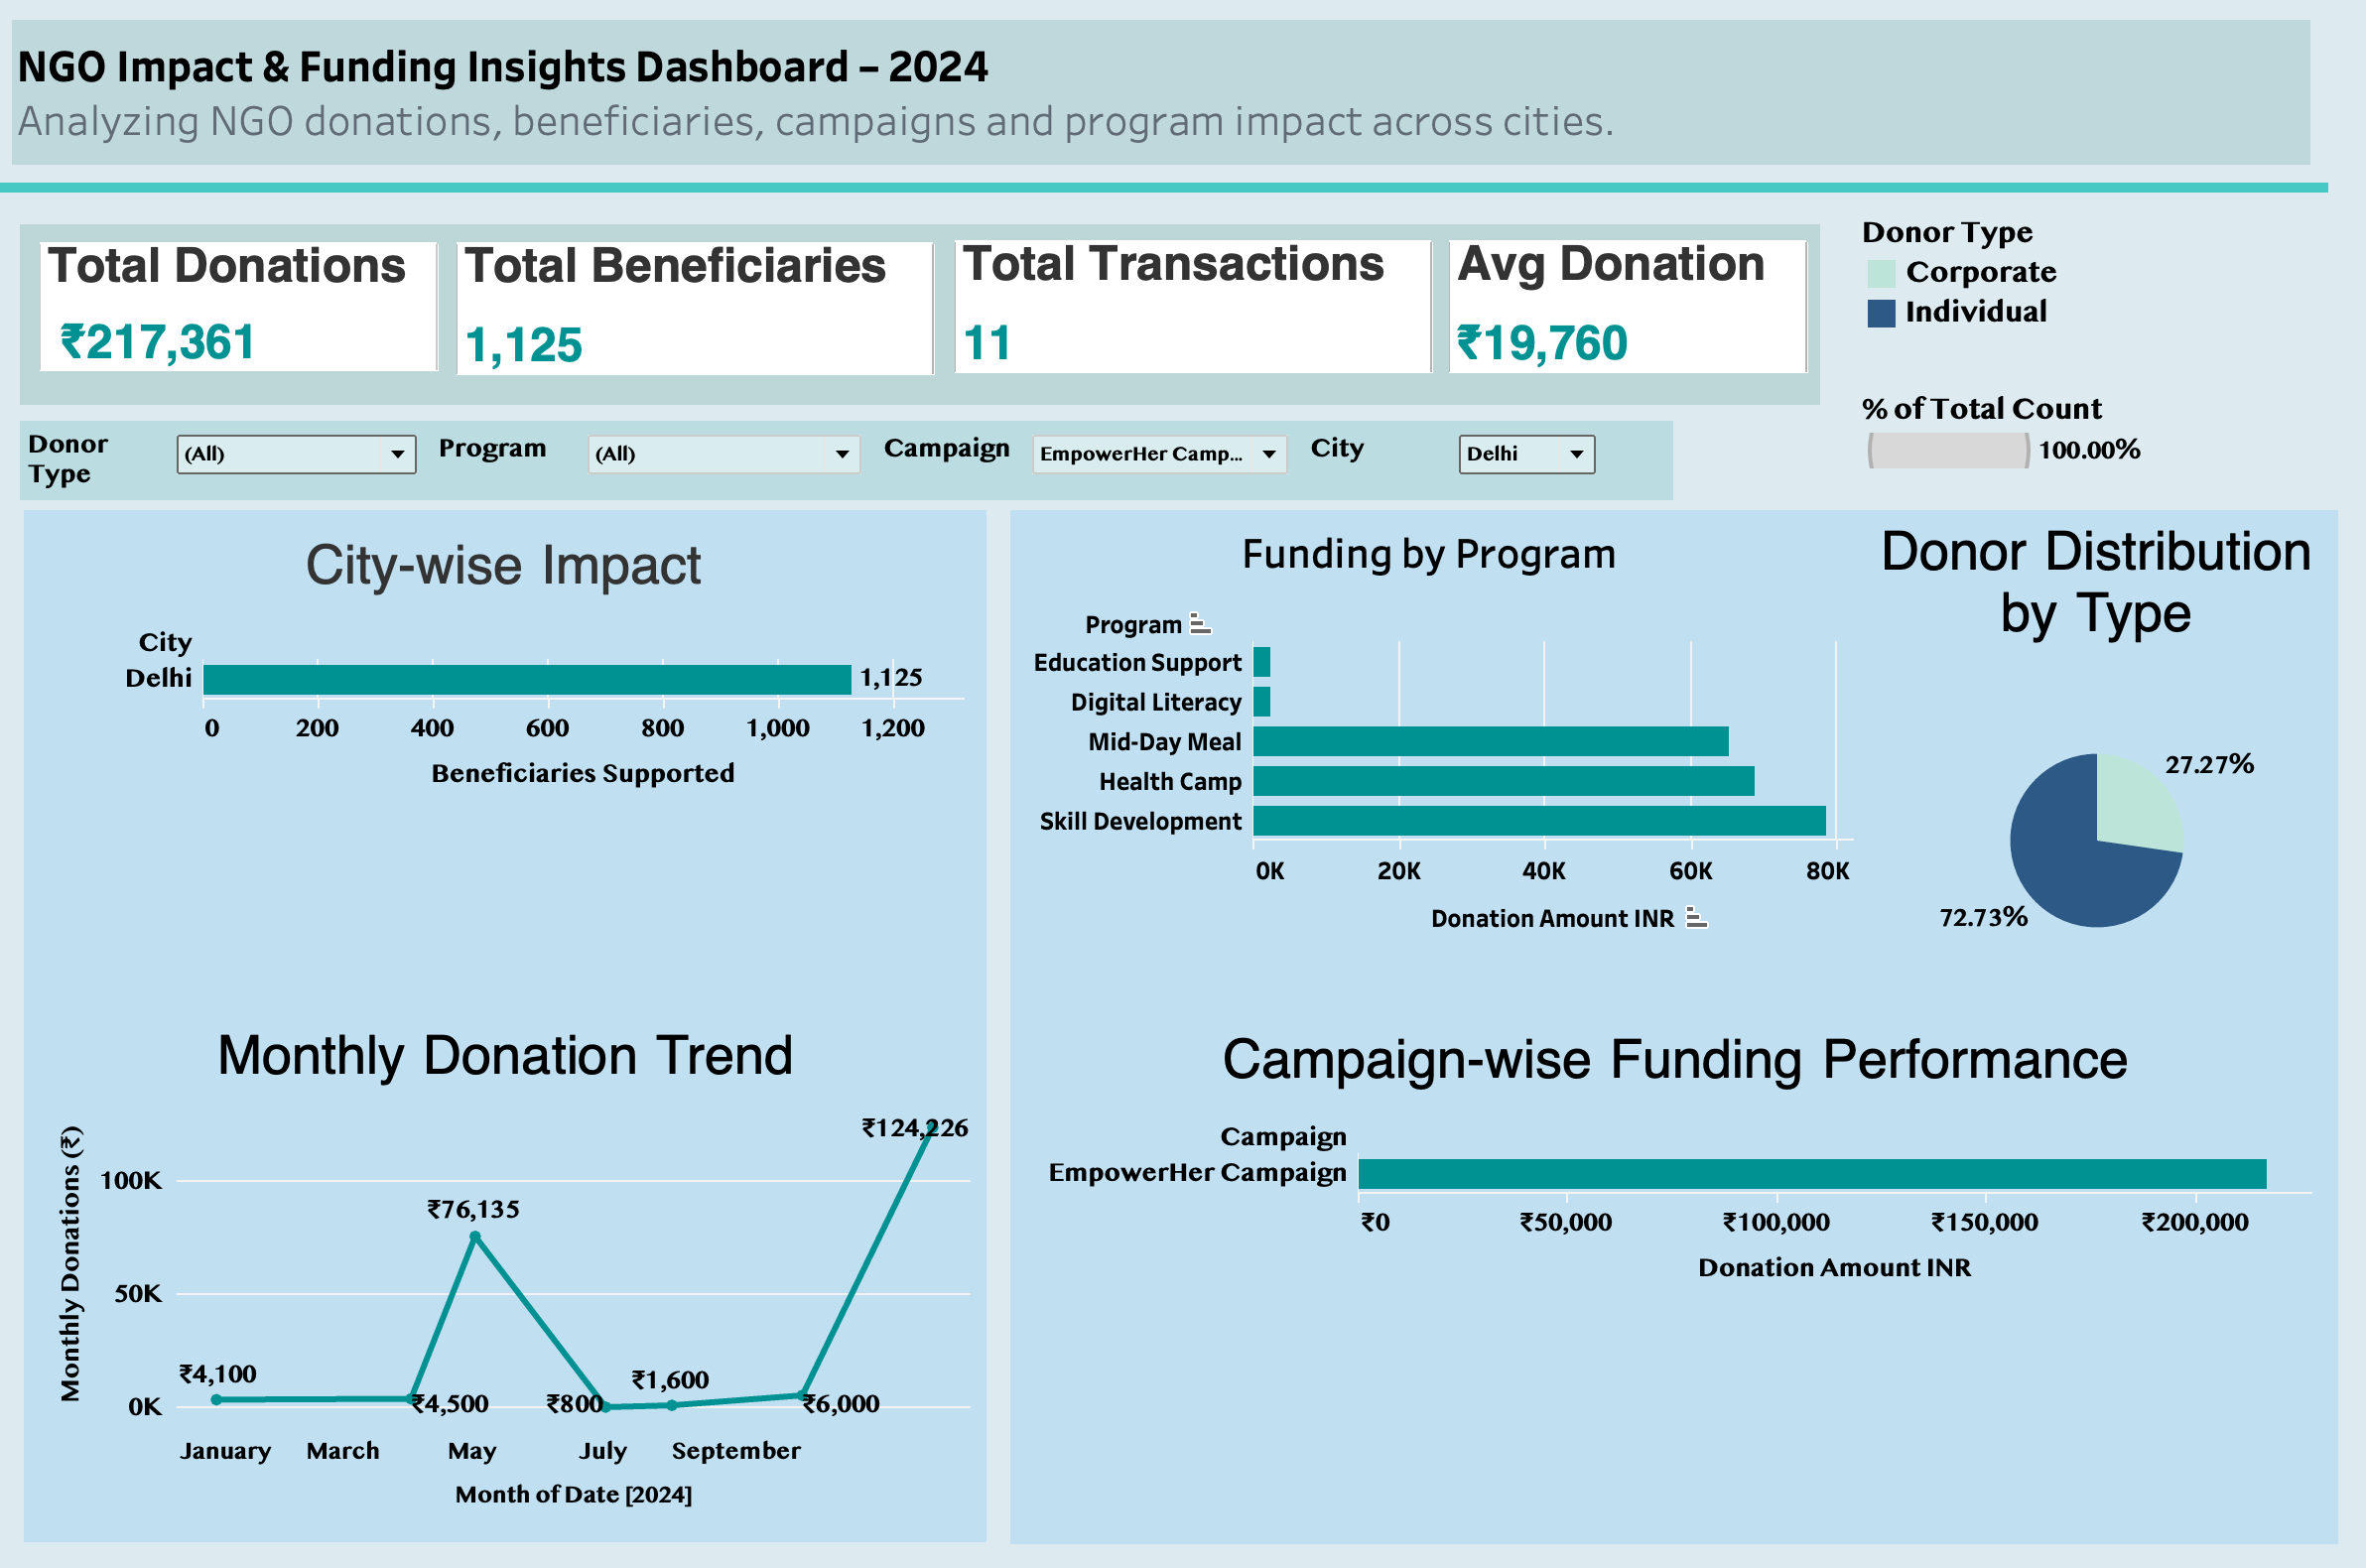

What the dashboard file says about the page in this screenshot:
{"tool":"tableau","page":{"name":"Dashboard 2","canvas":[1200,800],"ordinal":0},"visuals":[{"type":"text","box":[8,8,592,91]},{"type":"worksheet","title":"Campaign Performance","mark":"Bar","rows":["Campaign"],"cols":["Donation_Amount_INR"],"box":[600,8,592,91]},{"type":"worksheet","title":"KPI - Avg Donation","mark":"Automatic","box":[8,99,341,185]},{"type":"worksheet","title":"KPI – Total Beneficiaries","mark":"Automatic","box":[349,99,382,185]},{"type":"worksheet","title":"KPI 3 — Total Transactions","mark":"Automatic","box":[731,99,364,185]},{"type":"worksheet","title":"City-wise Impact","mark":"Bar","rows":["City"],"cols":["Beneficiaries_Supported"],"box":[8,284,466.2,219]},{"type":"legend","title":"Donor Type Distribution","param":"[federated.04s6wz103esujl121h8pq0vcro97].[pcto:cnt:Sheet1_51F91A157DE24FBA84DC4F","box":[474.3,284,168,219]},{"type":"worksheet","title":"Donor Type Distribution","mark":"Pie","box":[642.3,284,417.7,219]},{"type":"legend","title":"Donor Type Distribution","param":"[federated.04s6wz103esujl121h8pq0vcro97].[none:Donor_Type:nk]","box":[1060,284,132,219]},{"type":"worksheet","title":"Funding by Program","mark":"Automatic","rows":["Program"],"cols":["Donation_Amount_INR"],"box":[8,503,624.5,289]},{"type":"worksheet","title":"Monthly Donation Trend","mark":"Line","rows":["Donation_Amount_INR"],"cols":["Date"],"box":[632.5,503,559.5,289]}]}

Visuals, with their boxes in screenshot pixels (x1, y1, x2, y2), scaled from the page's 1200x800 canvas onto the 2366x1568 screenshot:
text: 16, 16, 1183, 195
"Campaign Performance" worksheet (Bar marks): 1183, 16, 2350, 195
"KPI - Avg Donation" worksheet: 16, 195, 688, 557
"KPI – Total Beneficiaries" worksheet: 688, 195, 1441, 557
"KPI 3 — Total Transactions" worksheet: 1441, 195, 2159, 557
"City-wise Impact" worksheet (Bar marks): 16, 557, 935, 985
"Donor Type Distribution" legend: 935, 557, 1266, 985
"Donor Type Distribution" worksheet (Pie marks): 1266, 557, 2090, 985
"Donor Type Distribution" legend: 2090, 557, 2350, 985
"Funding by Program" worksheet: 16, 985, 1248, 1552
"Monthly Donation Trend" worksheet (Line marks): 1248, 985, 2350, 1552
